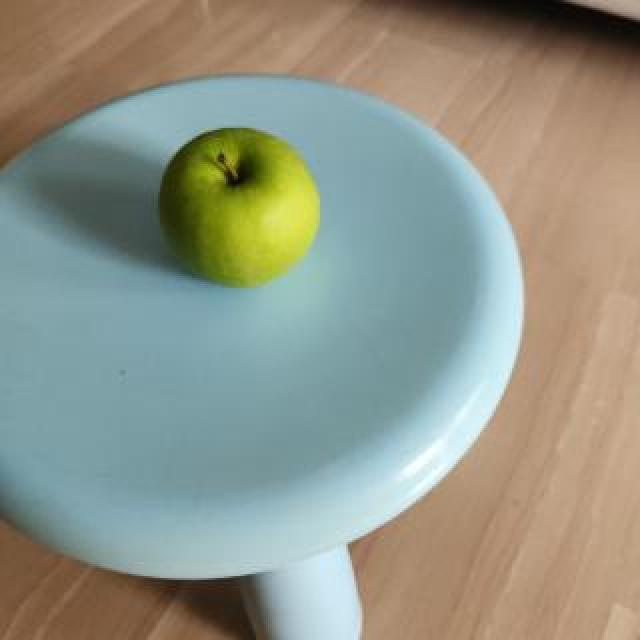Fresh Apple: (167, 140, 324, 280)
